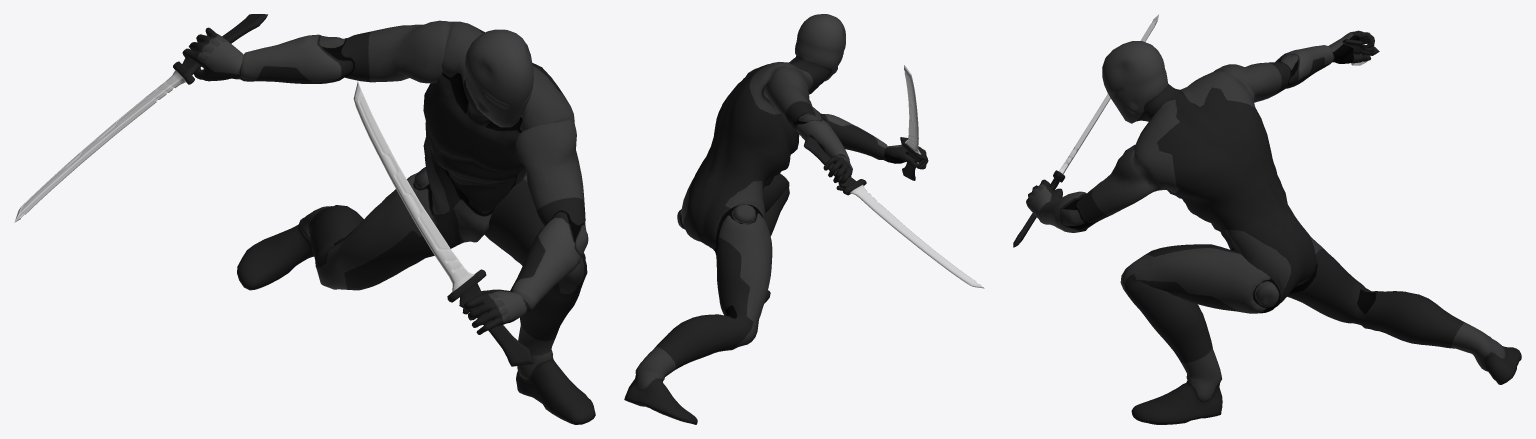
3 renders of one model, left to right at view 1: azimuth 30°, elevation 25°; view 2: azimuth 150°, elevation 25°; view 3: azimuth 270°, elevation 25°, orthographic. The views are drawn at different scales.
Visible parts, largest first — view 1: Cyborg_Ninja_Killer, Sword_l, Sword_l001; view 2: Cyborg_Ninja_Killer, Sword_l001, Sword_l; view 3: Cyborg_Ninja_Killer, Sword_l.
Part boxes in pixels (x1,y1,x2,y2): Cyborg_Ninja_Killer: (182,20,595,424); Sword_l: (353,81,533,366); Sword_l001: (14,14,267,222); Cyborg_Ninja_Killer: (624,14,928,424); Sword_l001: (804,135,984,288); Sword_l: (900,65,925,180); Cyborg_Ninja_Killer: (1026,30,1521,424); Sword_l: (1013,14,1158,247).
Bounding box in the file's own units: 147 × 121 × 164.
2 materials, 2 textured.
